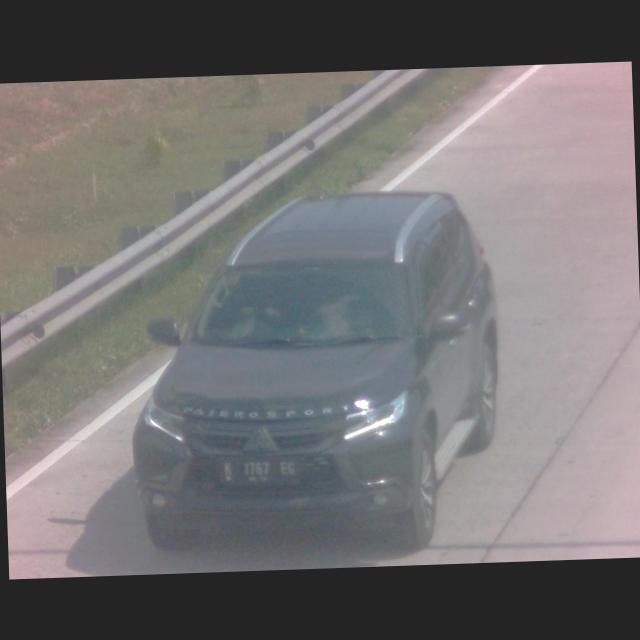plate: (215, 450, 302, 488)
